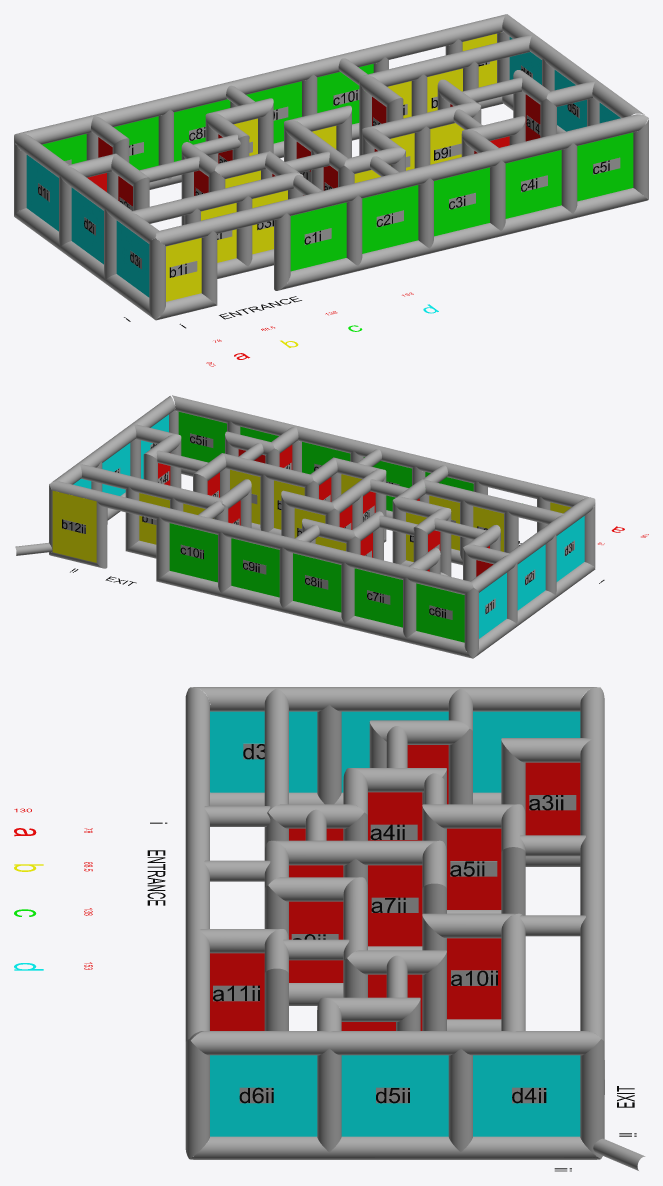
File: mazetestpreview_forstickers.glb
The picture shows the model from 3 angles, top to bottom: view 1: azimuth 30°, elevation 25°; view 2: azimuth 150°, elevation 25°; view 3: azimuth 270°, elevation 25°; orthographic projection. The views are drawn at different scales.
Visible parts, largest first — view 1: 预设值, 229924e0-5177-429f-a4f0-350db5d58c48, 52c90f11-d3f7-4438-97c0-c602d14c6552, d4b65b14-508b-4302-bf73-dad60dc25fd3, 00eb7355-b211-4d13-9ade-c10b599aa734, 947289e5-c6e6-43f3-bf54-354938ba15a6, 34eea082-febd-4169-a63c-65b8600cc7e1, 919494ea-39bb-429f-bf6f-c0753366a2f0, 44ee28b3-39a7-4505-96a7-aa1dce27d6ff, 5a18f0f6-9ba7-4a07-946f-eb3bcb873cda, a63ed5c7-11b3-427d-8b96-d5fcd1a96569, 1ef6b0a1-fc67-49bf-8134-2a7fcbd57725 (+19 smaller); view 2: 预设值, 188819f6-96e0-4d17-a0ae-dff101892666, 2b3a6310-7181-4d17-8a8a-a542863b0396, a11ea470-e809-4594-82ea-03855e9b5dbe, 939f386c-5587-47e7-a4cf-e359cd1628d9, 5cb62c96-98cf-47f1-ba22-407a6dd67dbc, 0f3275af-1f45-4dda-8c29-44f32d184e3f, 44ee28b3-39a7-4505-96a7-aa1dce27d6ff, d4b65b14-508b-4302-bf73-dad60dc25fd3, 5a18f0f6-9ba7-4a07-946f-eb3bcb873cda, 919494ea-39bb-429f-bf6f-c0753366a2f0, a63ed5c7-11b3-427d-8b96-d5fcd1a96569 (+15 smaller); view 3: 预设值, 7a64caa5-8393-42b4-9ddc-d37e52358963, 57b3a722-6171-4a27-9ad7-8d88ff46fbd0, 08c98511-329c-4d00-b5cb-51cac3c641ab, 919494ea-39bb-429f-bf6f-c0753366a2f0, 44ee28b3-39a7-4505-96a7-aa1dce27d6ff, a63ed5c7-11b3-427d-8b96-d5fcd1a96569, b0c40728-7abc-4991-a7dc-45cdf9508320, d4ea4dba-88d1-42fc-9da1-69e90e29d192, dc47fa79-5990-415b-9e3a-ed6db9e75eeb, 5d238efa-b9ec-4ada-97b8-e00b5206f0f8, 9cc44916-e445-4801-be8c-f108d74a4f65 (+13 smaller).
Part boxes in pixels (x1,y1,x2,y2): 预设值: (14,14,648,328); 229924e0-5177-429f-a4f0-350db5d58c48: (290,202,346,271); 52c90f11-d3f7-4438-97c0-c602d14c6552: (505,150,561,218); d4b65b14-508b-4302-bf73-dad60dc25fd3: (577,132,633,201); 00eb7355-b211-4d13-9ade-c10b599aa734: (362,185,418,253); 947289e5-c6e6-43f3-bf54-354938ba15a6: (434,167,489,236); 34eea082-febd-4169-a63c-65b8600cc7e1: (166,238,201,301); 919494ea-39bb-429f-bf6f-c0753366a2f0: (116,220,149,297); 44ee28b3-39a7-4505-96a7-aa1dce27d6ff: (284,89,481,187); 5a18f0f6-9ba7-4a07-946f-eb3bcb873cda: (71,187,103,264); a63ed5c7-11b3-427d-8b96-d5fcd1a96569: (26,155,58,231); 1ef6b0a1-fc67-49bf-8134-2a7fcbd57725: (59,171,149,246); 预设值: (15,395,604,658); 188819f6-96e0-4d17-a0ae-dff101892666: (52,491,96,562); 2b3a6310-7181-4d17-8a8a-a542863b0396: (416,583,464,642); a11ea470-e809-4594-82ea-03855e9b5dbe: (169,523,217,582); 939f386c-5587-47e7-a4cf-e359cd1628d9: (293,553,341,612); 5cb62c96-98cf-47f1-ba22-407a6dd67dbc: (354,568,402,627); 0f3275af-1f45-4dda-8c29-44f32d184e3f: (231,538,279,597); 44ee28b3-39a7-4505-96a7-aa1dce27d6ff: (193,468,386,542); d4b65b14-508b-4302-bf73-dad60dc25fd3: (178,412,226,462); 5a18f0f6-9ba7-4a07-946f-eb3bcb873cda: (517,544,545,610); 919494ea-39bb-429f-bf6f-c0753366a2f0: (556,516,584,581); a63ed5c7-11b3-427d-8b96-d5fcd1a96569: (479,573,506,638); 预设值: (147,687,645,1171); 7a64caa5-8393-42b4-9ddc-d37e52358963: (210,1055,317,1136); 57b3a722-6171-4a27-9ad7-8d88ff46fbd0: (473,1055,580,1136); 08c98511-329c-4d00-b5cb-51cac3c641ab: (341,1055,448,1136); 919494ea-39bb-429f-bf6f-c0753366a2f0: (210,711,317,792); 44ee28b3-39a7-4505-96a7-aa1dce27d6ff: (264,883,446,1030); a63ed5c7-11b3-427d-8b96-d5fcd1a96569: (473,711,580,792); b0c40728-7abc-4991-a7dc-45cdf9508320: (447,828,501,909); d4ea4dba-88d1-42fc-9da1-69e90e29d192: (368,865,422,946); dc47fa79-5990-415b-9e3a-ed6db9e75eeb: (447,938,501,1019); 5d238efa-b9ec-4ada-97b8-e00b5206f0f8: (210,953,264,1030); 9cc44916-e445-4801-be8c-f108d74a4f65: (525,762,580,835).
Bounding box in the file's own units: 13.03 × 2 × 9.09.
